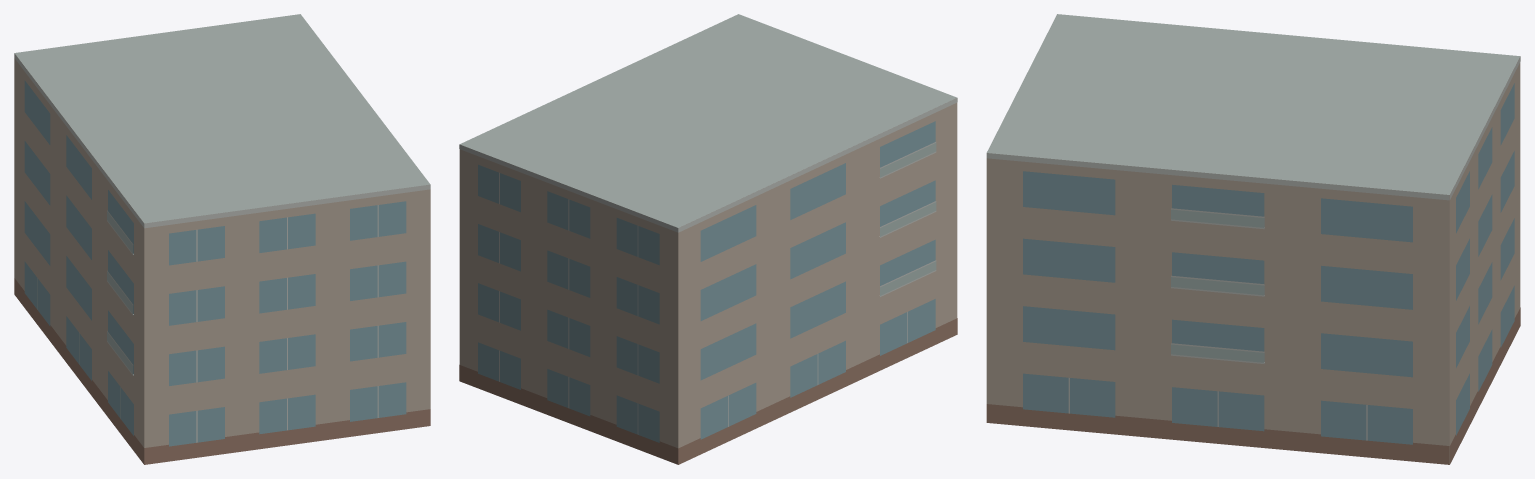
Rendered from residential-4a993677-f5be-4b38-8d0f-1a7fb3982be4.glb.
3 renders of one model, left to right at view 1: azimuth 30°, elevation 25°; view 2: azimuth 150°, elevation 25°; view 3: azimuth 270°, elevation 25°, orthographic. The views are drawn at different scales.
Parts seen in each view (by area): view 1: residential-4a993677-f5be-4b38-8d0f-1a7fb3982be4.tmp; view 2: residential-4a993677-f5be-4b38-8d0f-1a7fb3982be4.tmp; view 3: residential-4a993677-f5be-4b38-8d0f-1a7fb3982be4.tmp.
Boxes of the visible parts, x1,y1,x2,y2 form: residential-4a993677-f5be-4b38-8d0f-1a7fb3982be4.tmp: (14,14,430,464); residential-4a993677-f5be-4b38-8d0f-1a7fb3982be4.tmp: (459,14,957,464); residential-4a993677-f5be-4b38-8d0f-1a7fb3982be4.tmp: (986,14,1520,464).
Bounding box in the file's own units: 17.56 × 12.2 × 21.89.
